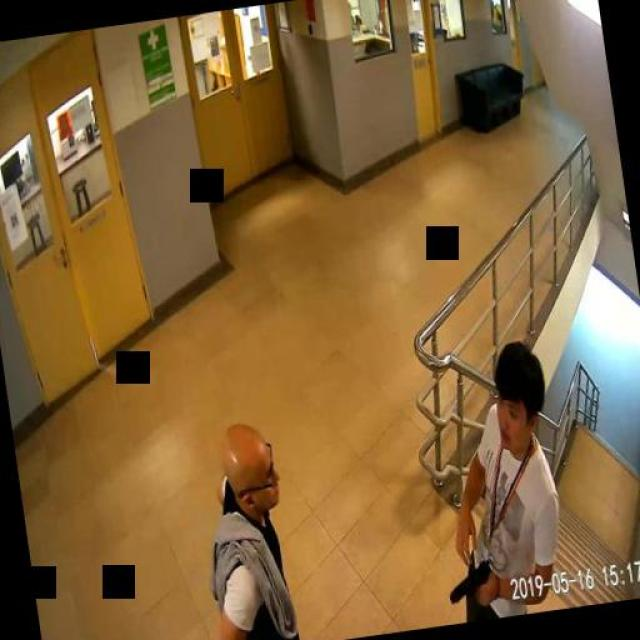gun: (445, 558, 494, 608)
